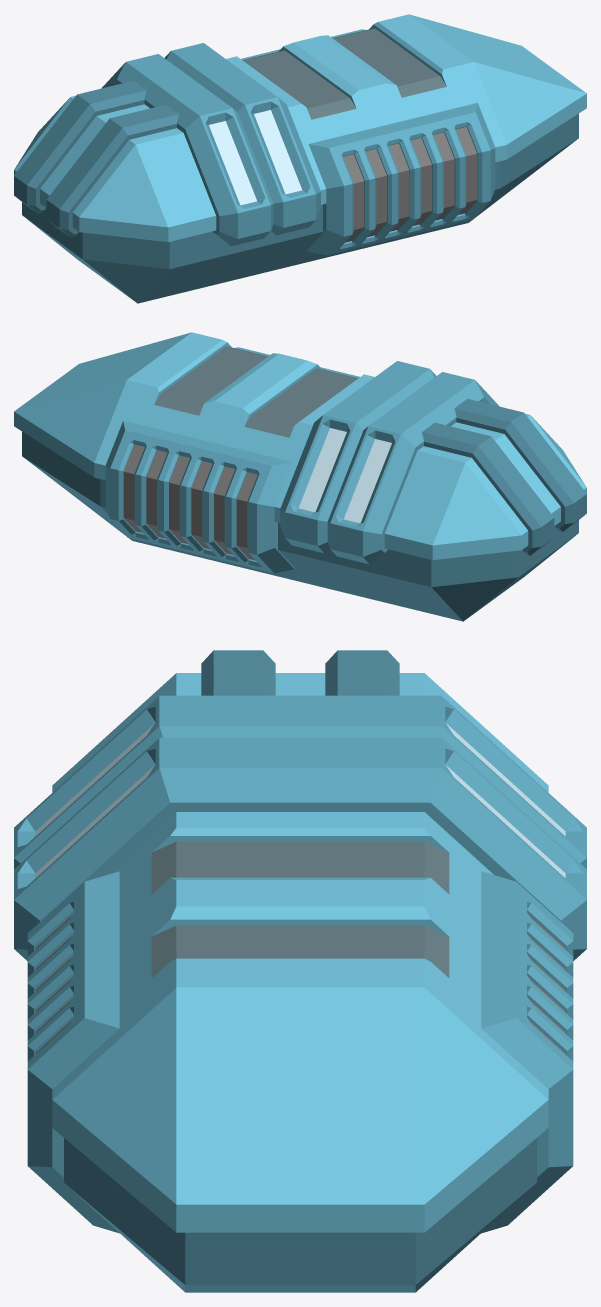
The model's file is spacestation_structure_cockpit_model_a.glb.
3 renders of one model, top to bottom at view 1: azimuth 30°, elevation 25°; view 2: azimuth 150°, elevation 25°; view 3: azimuth 270°, elevation 25°, orthographic. The views are drawn at different scales.
Size of the model in its own units: 2.29 by 0.7582 by 1.15.
